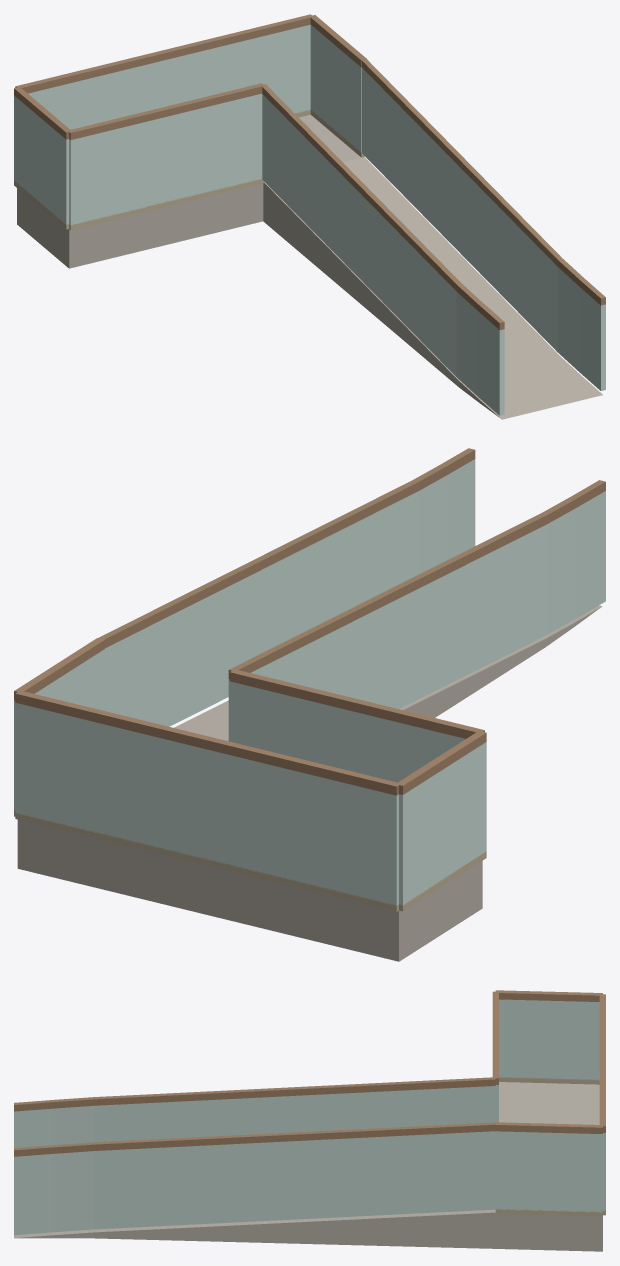
The model's file is CONVERSATION_792_r001.glb.
3 renders of one model, top to bottom at view 1: azimuth 30°, elevation 25°; view 2: azimuth 150°, elevation 25°; view 3: azimuth 270°, elevation 25°, orthographic. The views are drawn at different scales.
Visible parts, largest first — view 1: G2R_792_RearClosed_Infill, G2R_792_ContinuousRearRamp, G2R_792_Fore_Infill, G2R_792_ConversationOverlook, G2R_792_Outer_Infill, G2R_792_Inner_Infill, G2R_792_Fore_Handrail, G2R_792_Ramp_R_guard_11, G2R_792_Ramp_L_guard_11, G2R_792_RearClosed_Handrail, G2R_792_Ramp_L_guard_10, G2R_792_Ramp_R_guard_10 (+23 smaller); view 2: G2R_792_Fore_Infill, G2R_792_ConversationOverlook, G2R_792_RearClosed_Infill, G2R_792_Outer_Infill, G2R_792_Fore_Handrail, G2R_792_ContinuousRearRamp, G2R_792_Ramp_R_guard_8, G2R_792_Ramp_R_guard_6, G2R_792_Ramp_L_guard_2, G2R_792_Ramp_R_guard_7, G2R_792_Ramp_R_guard_9, G2R_792_Ramp_R_guard_5 (+22 smaller); view 3: G2R_792_ContinuousRearRamp, G2R_792_Inner_Infill, G2R_792_ConversationOverlook, G2R_792_Outer_Infill, G2R_792_Ramp_L_guard_3, G2R_792_Ramp_L_guard_6, G2R_792_Ramp_L_guard_8, G2R_792_Ramp_L_guard_10, G2R_792_Ramp_L_guard_0, G2R_792_Ramp_L_guard_1, G2R_792_Ramp_L_guard_2, G2R_792_Ramp_L_guard_4 (+46 smaller).
Boxes of the visible parts, x1=… form: G2R_792_RearClosed_Infill: x1=69, y1=93, x2=262, y2=225; G2R_792_ContinuousRearRamp: x1=263, y1=157, x2=602, y2=419; G2R_792_Fore_Infill: x1=28, y1=24, x2=310, y2=129; G2R_792_ConversationOverlook: x1=17, y1=114, x2=360, y2=268; G2R_792_Outer_Infill: x1=14, y1=95, x2=69, y2=224; G2R_792_Inner_Infill: x1=310, y1=25, x2=361, y2=152; G2R_792_Fore_Handrail: x1=15, y1=14, x2=313, y2=93; G2R_792_Ramp_R_guard_11: x1=477, y1=311, x2=504, y2=415; G2R_792_Ramp_L_guard_11: x1=579, y1=286, x2=605, y2=390; G2R_792_RearClosed_Handrail: x1=68, y1=83, x2=264, y2=139; G2R_792_Ramp_L_guard_10: x1=557, y1=267, x2=578, y2=371; G2R_792_Ramp_R_guard_10: x1=456, y1=291, x2=477, y2=395; G2R_792_Fore_Infill: x1=15, y1=703, x2=398, y2=905; G2R_792_ConversationOverlook: x1=17, y1=819, x2=482, y2=961; G2R_792_RearClosed_Infill: x1=229, y1=681, x2=465, y2=782; G2R_792_Outer_Infill: x1=399, y1=742, x2=486, y2=905; G2R_792_Fore_Handrail: x1=15, y1=690, x2=400, y2=795; G2R_792_ContinuousRearRamp: x1=174, y1=605, x2=602, y2=741; G2R_792_Ramp_R_guard_8: x1=486, y1=539, x2=517, y2=665; G2R_792_Ramp_R_guard_6: x1=423, y1=571, x2=454, y2=696; G2R_792_Ramp_L_guard_2: x1=167, y1=601, x2=198, y2=726; G2R_792_Ramp_R_guard_7: x1=454, y1=555, x2=485, y2=680; G2R_792_Ramp_R_guard_9: x1=517, y1=523, x2=548, y2=649; G2R_792_Ramp_R_guard_5: x1=392, y1=586, x2=423, y2=708; G2R_792_ContinuousRearRamp: x1=14, y1=1209, x2=495, y2=1248; G2R_792_Inner_Infill: x1=495, y1=1131, x2=602, y2=1212; G2R_792_ConversationOverlook: x1=495, y1=1082, x2=602, y2=1251; G2R_792_Outer_Infill: x1=499, y1=999, x2=599, y2=1080; G2R_792_Ramp_L_guard_3: x1=335, y1=1137, x2=375, y2=1217; G2R_792_Ramp_L_guard_6: x1=214, y1=1143, x2=254, y2=1223; G2R_792_Ramp_L_guard_8: x1=134, y1=1147, x2=174, y2=1227; G2R_792_Ramp_L_guard_10: x1=54, y1=1151, x2=94, y2=1232; G2R_792_Ramp_L_guard_0: x1=455, y1=1131, x2=495, y2=1211; G2R_792_Ramp_L_guard_1: x1=415, y1=1133, x2=455, y2=1213; G2R_792_Ramp_L_guard_2: x1=375, y1=1135, x2=415, y2=1215; G2R_792_Ramp_L_guard_4: x1=295, y1=1139, x2=335, y2=1219.
Size of the model in its own units: 3.64 by 1.55 by 6.63.
